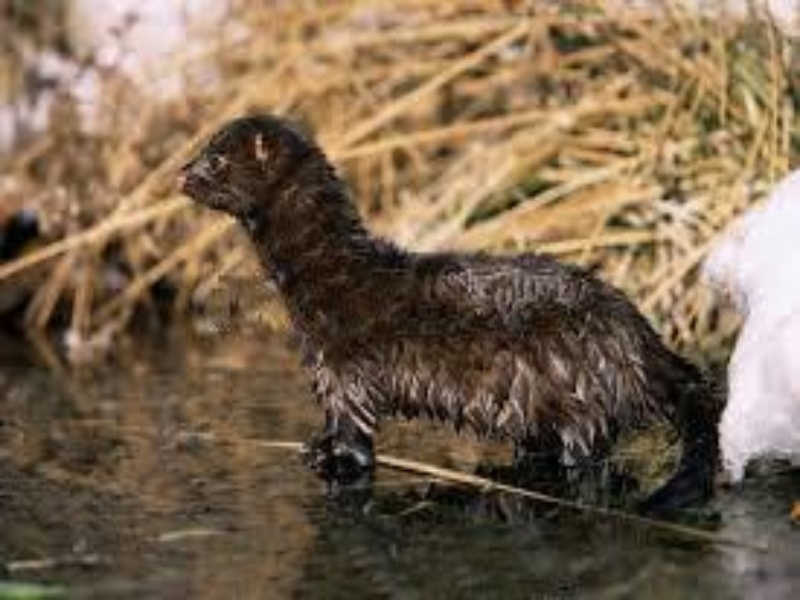minkish: (174, 111, 717, 498)
